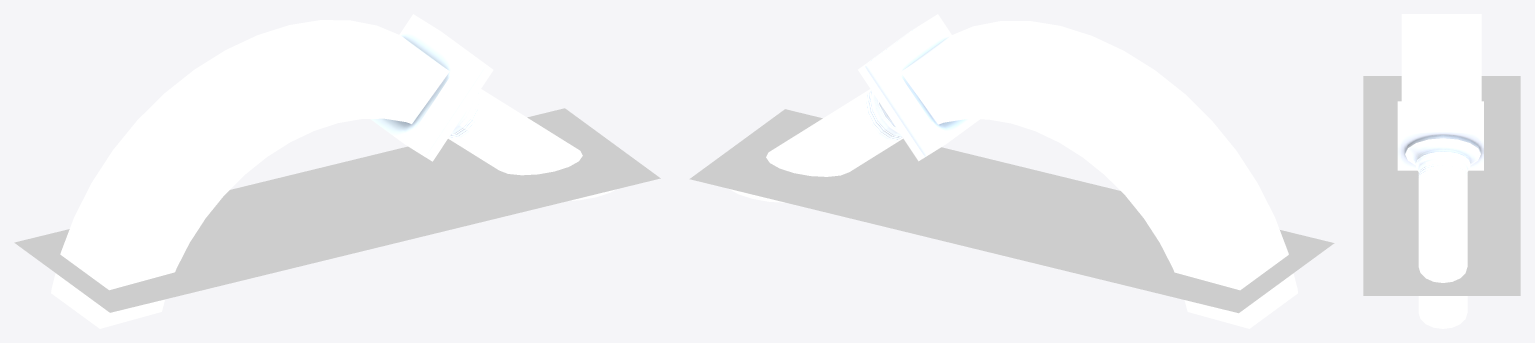
Rendered from ArchWay_Buried.FBX.
3 renders of one model, left to right at view 1: azimuth 30°, elevation 25°; view 2: azimuth 150°, elevation 25°; view 3: azimuth 270°, elevation 25°, orthographic. The views are drawn at different scales.
Visible parts, largest first — view 1: Cylinder008, Plane001; view 2: Cylinder008, Plane001; view 3: Plane001, Cylinder008.
Boxes of the visible parts, x1,y1,x2,y2 form: Cylinder008: (51, 14, 615, 328); Plane001: (14, 108, 660, 312); Cylinder008: (729, 14, 1297, 328); Plane001: (689, 109, 1334, 313); Plane001: (1363, 76, 1520, 295); Cylinder008: (1397, 14, 1483, 328).
Bounding box in the file's own units: 2.94 × 1.05 × 0.8742.
1 material, 1 textured.
